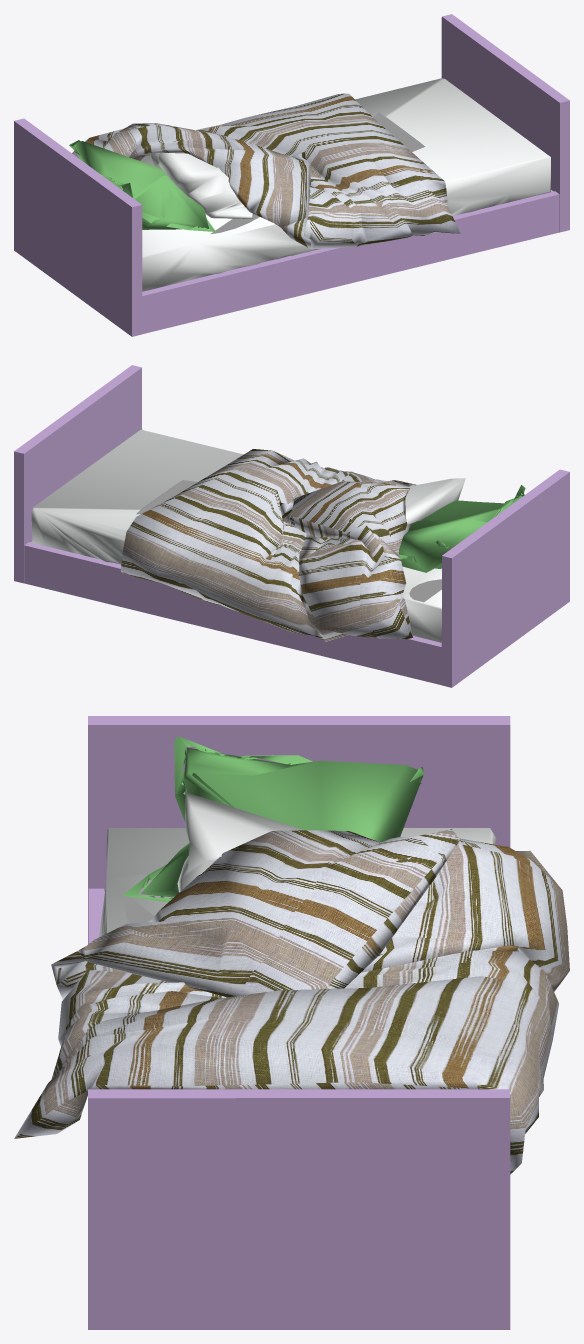
The model's file is main_bed2.fbx.
3 views of the same model, one above another, from view 1: azimuth 30°, elevation 25°; view 2: azimuth 150°, elevation 25°; view 3: azimuth 270°, elevation 25° (orthographic). The views are drawn at different scales.
Visible parts, largest first — view 1: Bed, odealo, prostin, Pillows2, Pillows1, matras; view 2: Bed, odealo, prostin, Pillows2, Pillows1, matras; view 3: Bed, odealo, Pillows2, prostin, Pillows1.
Part boxes in pixels (bbox=[...]): Bed: bbox=[14, 14, 569, 336]; odealo: bbox=[72, 93, 460, 249]; prostin: bbox=[140, 78, 550, 291]; Pillows2: bbox=[69, 140, 215, 231]; Pillows1: bbox=[151, 152, 253, 218]; matras: bbox=[210, 112, 425, 234]; Bed: bbox=[14, 365, 569, 687]; odealo: bbox=[120, 449, 416, 641]; prostin: bbox=[31, 429, 441, 642]; Pillows2: bbox=[399, 485, 525, 572]; Pillows1: bbox=[326, 478, 465, 539]; matras: bbox=[136, 480, 441, 602]; Bed: bbox=[88, 716, 510, 1329]; odealo: bbox=[14, 829, 569, 1174]; Pillows2: bbox=[123, 736, 424, 902]; prostin: bbox=[99, 828, 496, 937]; Pillows1: bbox=[147, 792, 304, 922].
Size of the model in its own units: 283 by 80.07 by 174.
